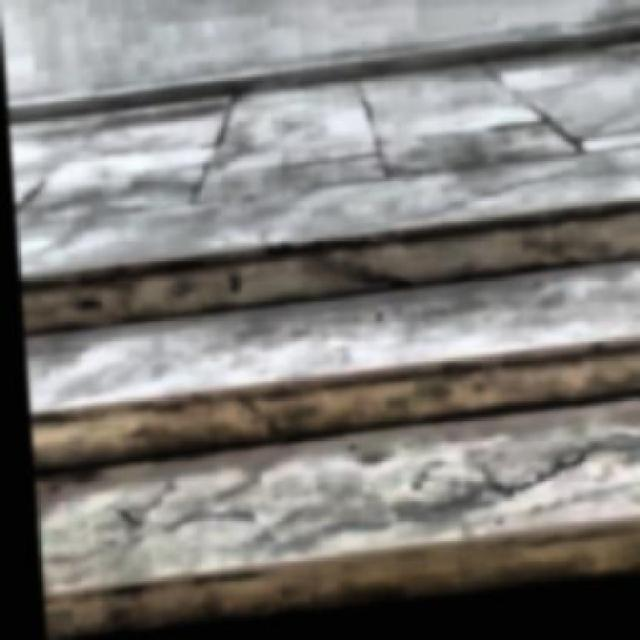stair: (17, 212, 638, 638)
